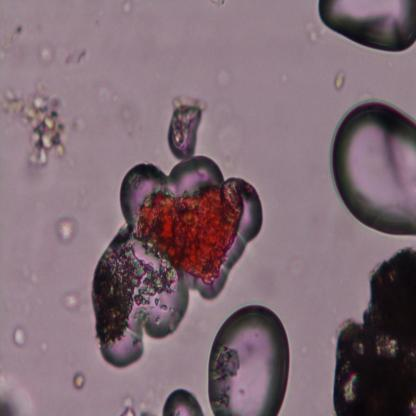Air bubble: (88, 235, 191, 367), (323, 96, 416, 238), (207, 304, 292, 416), (120, 143, 218, 223), (315, 0, 416, 54), (233, 183, 264, 253), (167, 100, 200, 160), (160, 385, 204, 416)
Background material: (332, 244, 416, 416), (0, 81, 67, 170), (204, 97, 249, 173), (12, 257, 46, 317), (37, 43, 86, 67), (0, 376, 30, 414), (0, 24, 23, 68), (115, 104, 142, 140), (54, 213, 78, 244), (120, 395, 156, 415), (68, 112, 91, 137), (302, 18, 321, 46), (12, 322, 27, 350), (213, 70, 233, 90), (64, 290, 80, 313), (97, 84, 115, 104), (118, 0, 135, 17), (72, 371, 87, 390), (334, 70, 345, 90), (210, 0, 224, 10)
Fragment: (132, 184, 244, 284)
